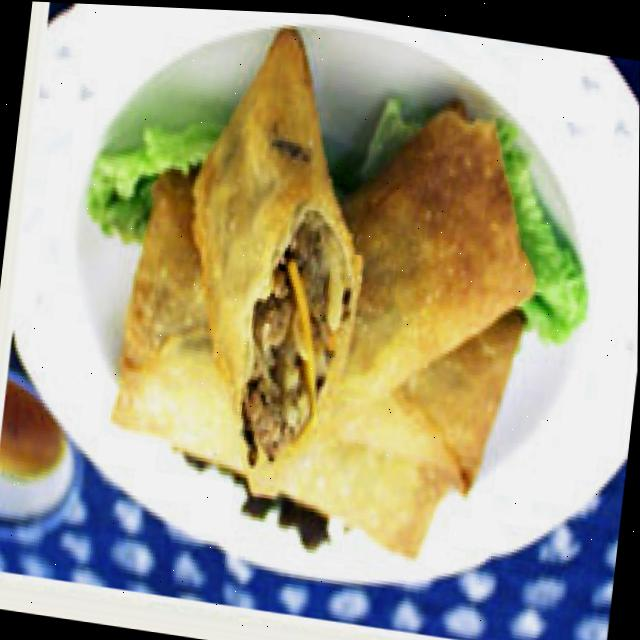鸡蛋料理: (73, 3, 559, 592)
